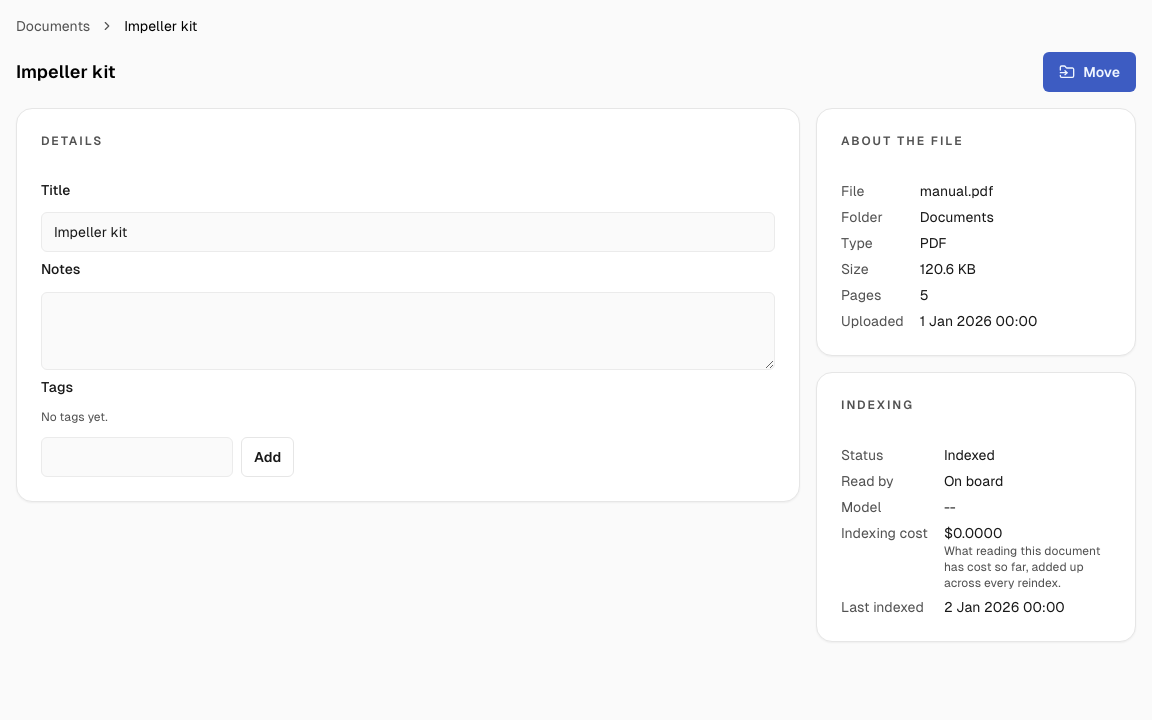
Test: DocumentDetailsPage › shows the save bar in the header only once something changes
Expected: the button "Save" is not shown
Expected: the button "Discard" is not shown
Replace the text in the field labelled "Title" with "Impeller kit v2" at (408, 232), box [41,212,775,252]
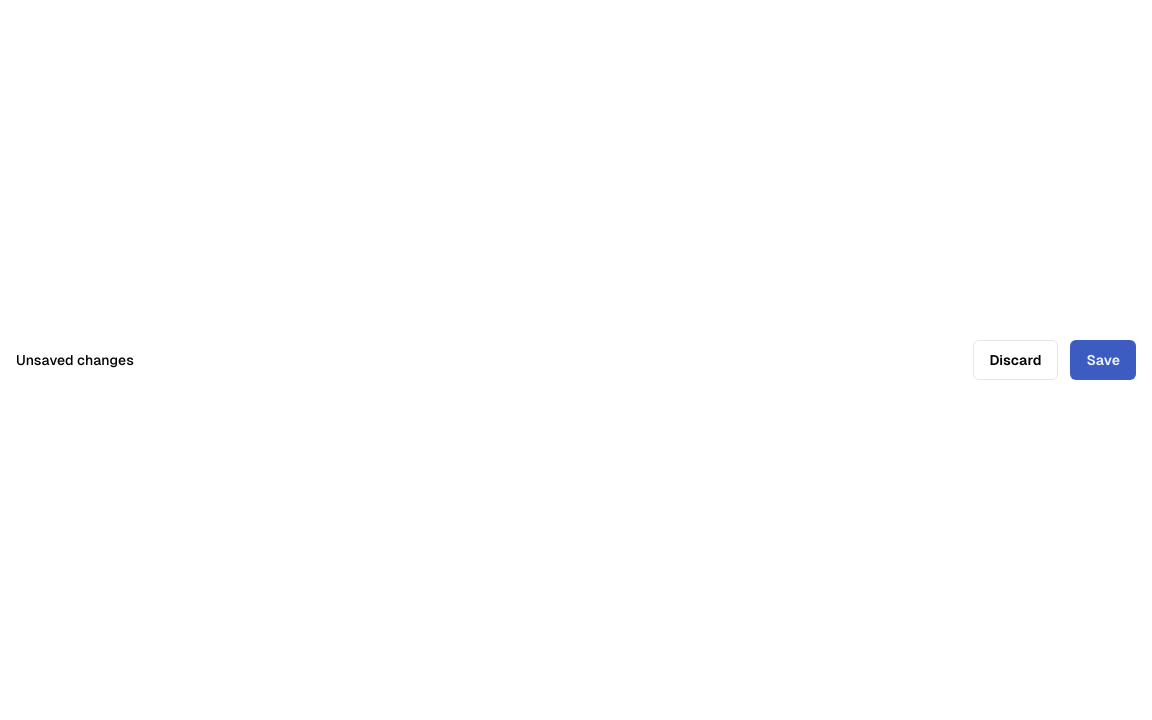
Expected: the button "Save" is enabled, [1070,340,1136,380]
Expected: the button "Discard" is enabled, [972,340,1058,380]
